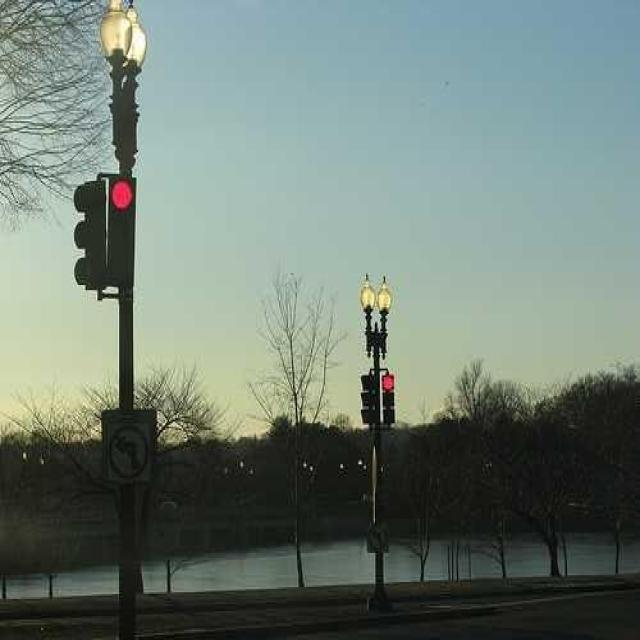Traffic Light -Red-: (106, 174, 137, 287), (379, 369, 398, 428)
